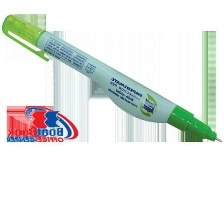correction_fluid: (1, 13, 223, 145)
